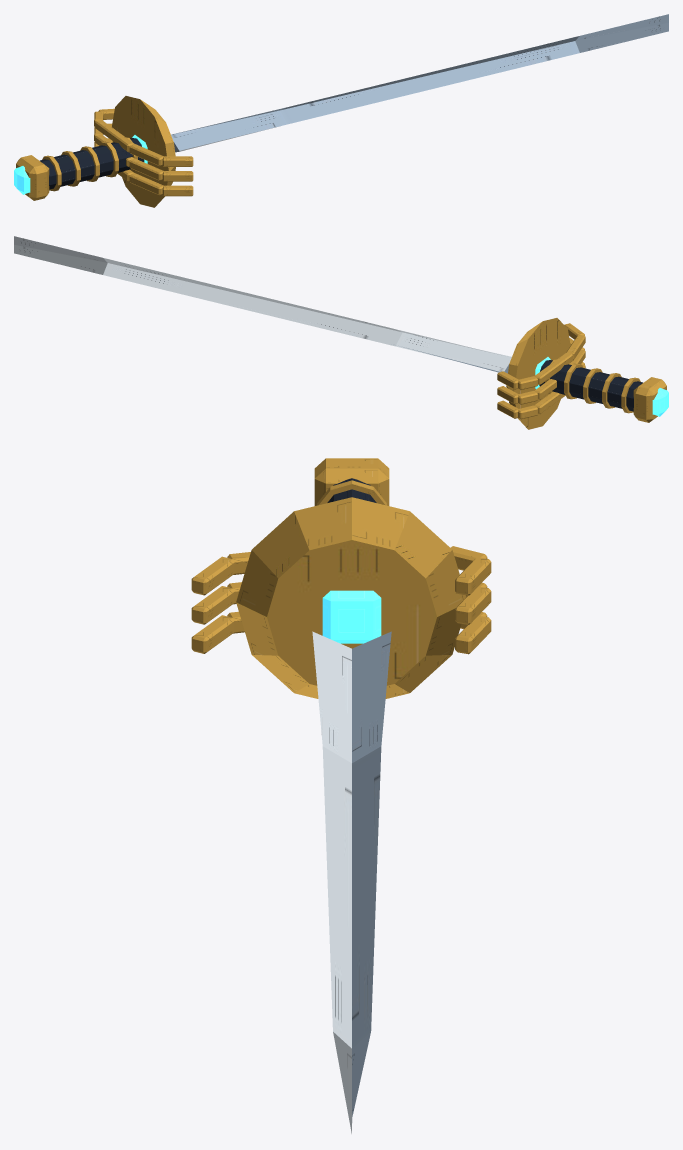
The model's file is rapier.glb.
3 renders of one model, top to bottom at view 1: azimuth 30°, elevation 25°; view 2: azimuth 150°, elevation 25°; view 3: azimuth 270°, elevation 25°, orthographic. The views are drawn at different scales.
Visible parts, largest first — view 1: blade, guard, grip; view 2: blade, guard, grip; view 3: guard, blade, grip.
Boxes of the visible parts, x1=… form: blade: x1=171, y1=14, x2=668, y2=152; guard: x1=94, y1=96, x2=193, y2=207; grip: x1=14, y1=137, x2=144, y2=200; blade: x1=14, y1=236, x2=511, y2=373; guard: x1=497, y1=318, x2=585, y2=429; grip: x1=539, y1=359, x2=668, y2=422; guard: x1=191, y1=497, x2=491, y2=698; blade: x1=312, y1=631, x2=391, y2=1133; grip: x1=314, y1=458, x2=389, y2=505.
Size of the model in its own units: 1.03 by 0.158 by 0.2042.
5 materials, 5 textured.
